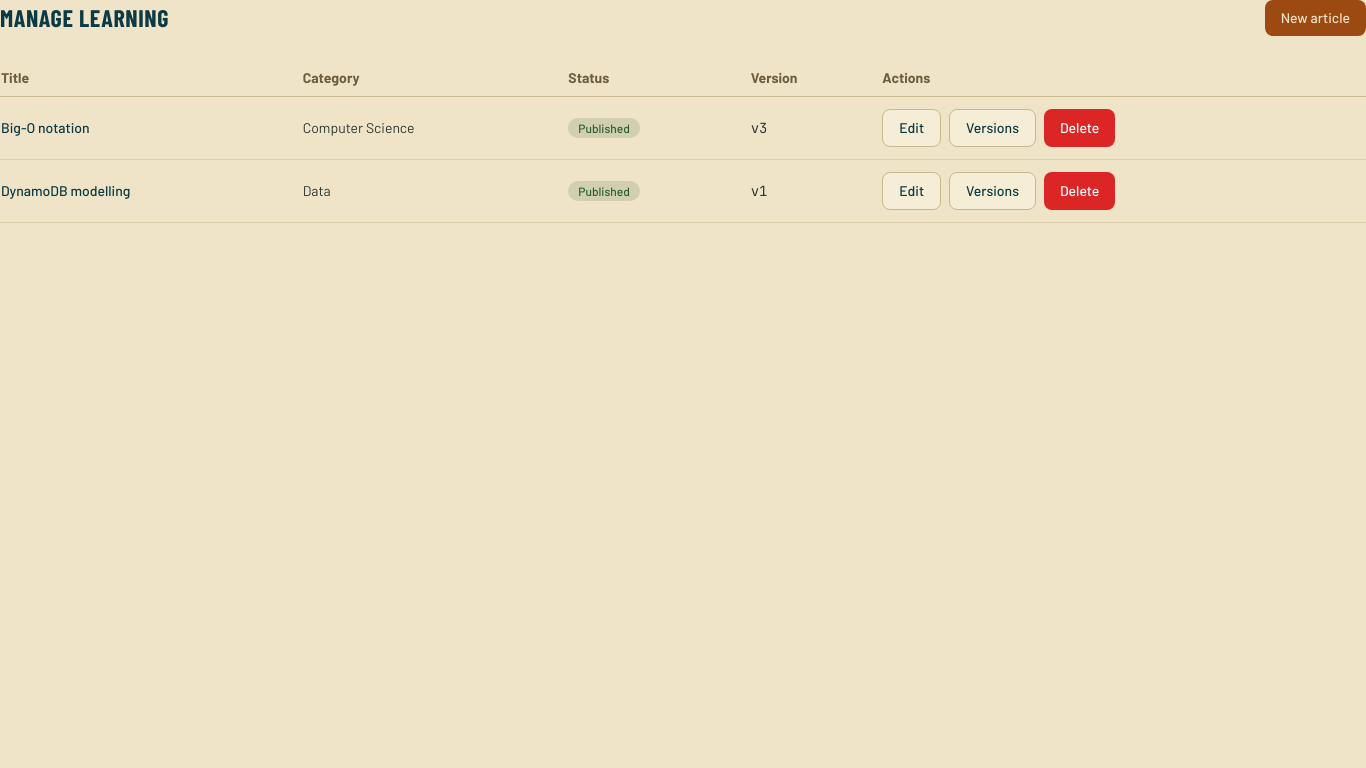
Test case: AdminLearning › shows an alert when the deletion fails
The width and height of the screenshot is (1366, 768).
Expected: the text "Big-O notation" is shown, [0,96,302,160]
Click the button with aria-label "Delete Big-O notation".
click(1080, 128)  # box [1044,109,1115,147]
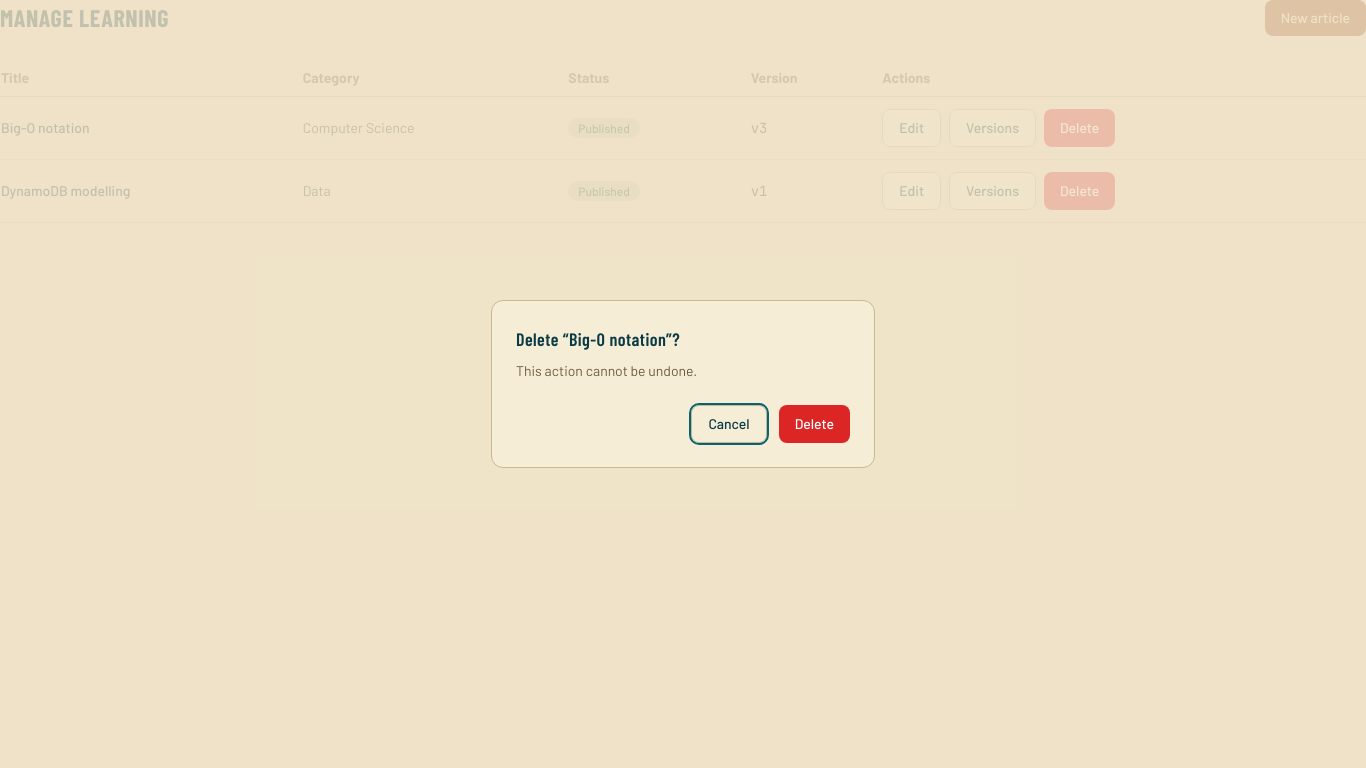
Click the button "Delete".
click(814, 424)  # box [779,405,850,443]
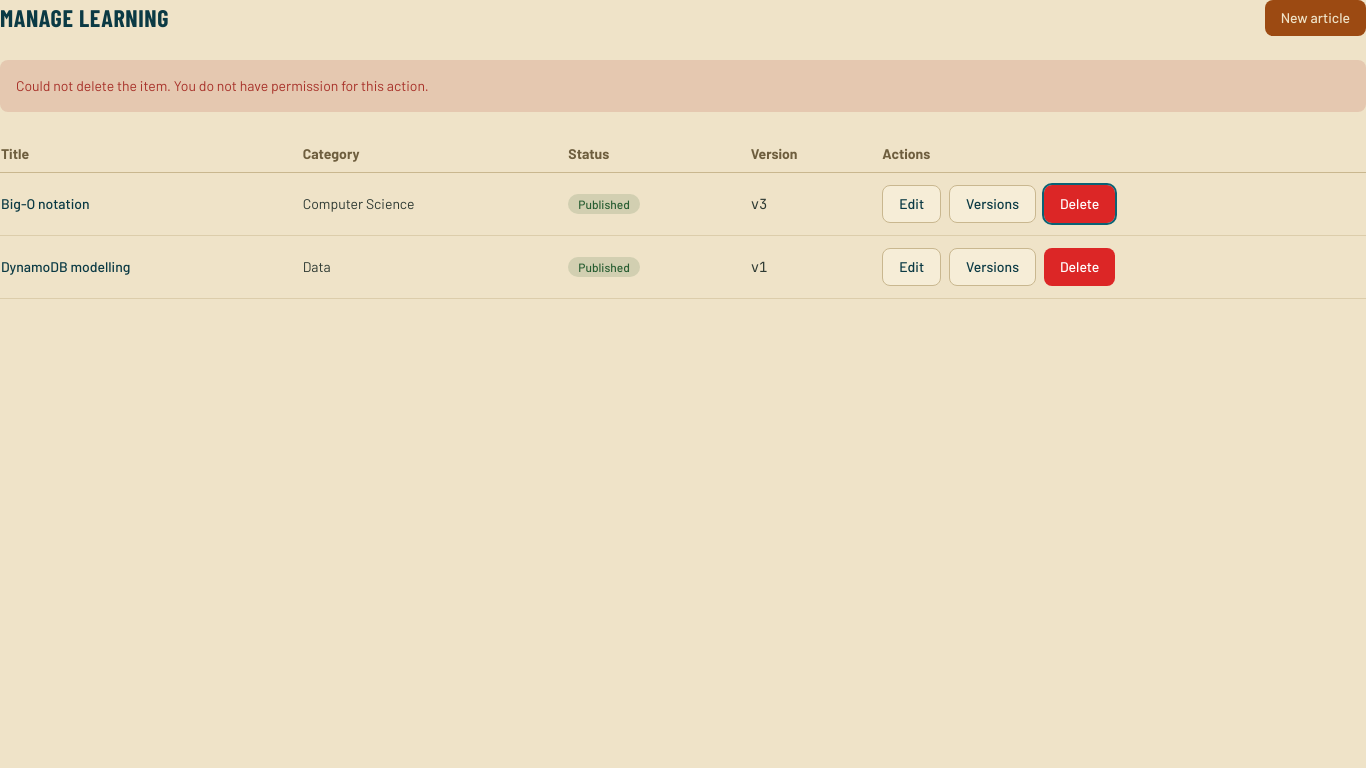
Expected: the message shows "Could not delete the item. You do not have permission", [0,60,1365,112]
